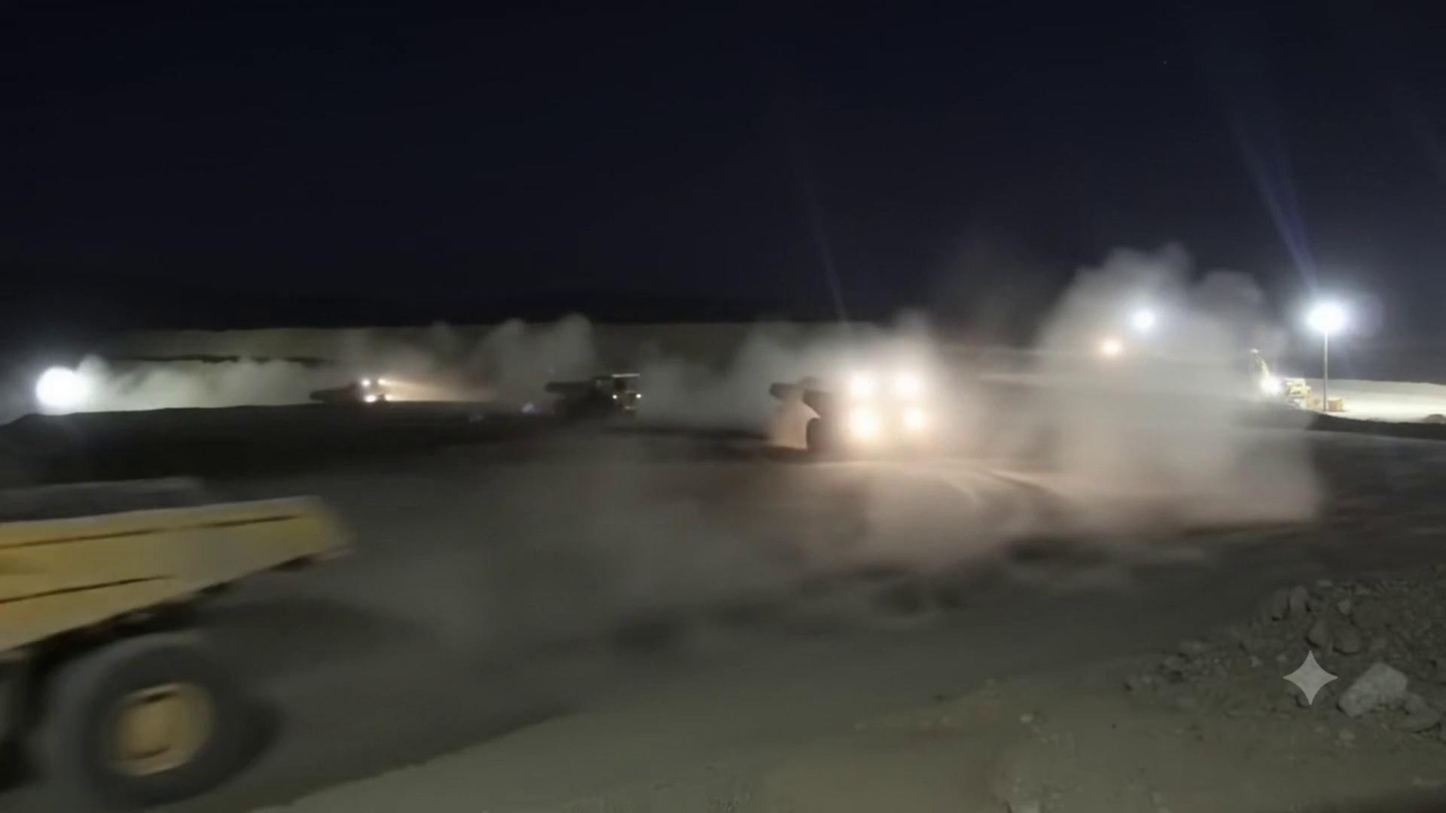CAEX: (1, 484, 357, 802), (770, 376, 926, 458), (547, 373, 641, 418), (313, 376, 389, 403)
